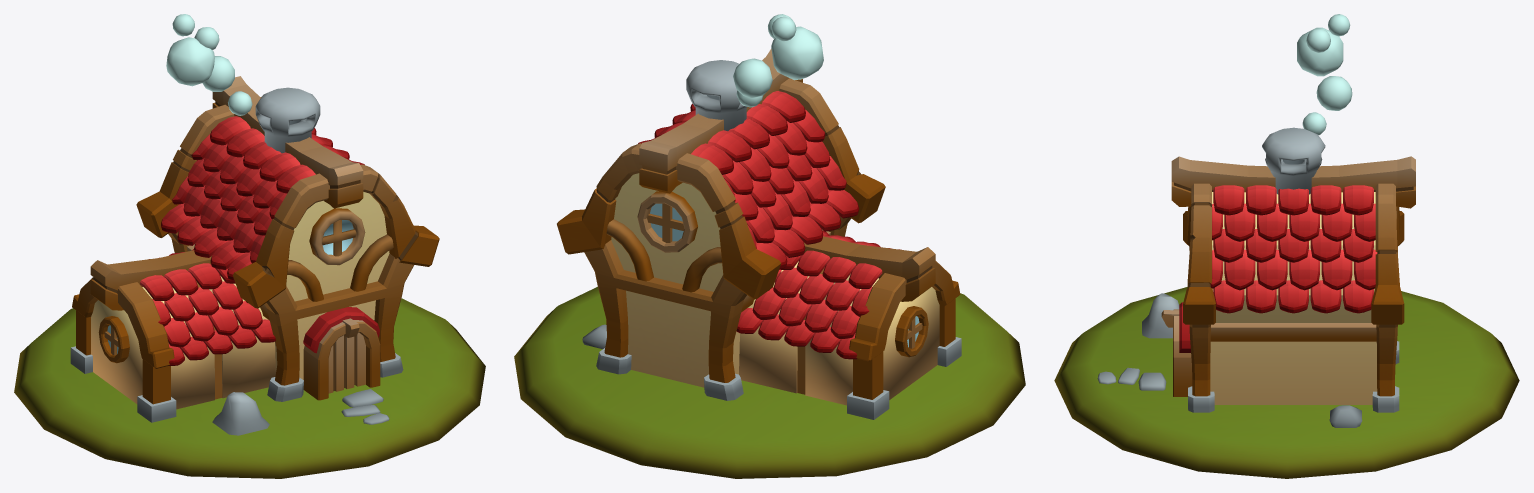
Rendered from 3december_2021_day_4_cottage.glb.
The picture shows the model from 3 angles, left to right: view 1: azimuth 30°, elevation 25°; view 2: azimuth 150°, elevation 25°; view 3: azimuth 270°, elevation 25°; orthographic projection. The views are drawn at different scales.
Visible parts, largest first — view 1: Cube.007; view 2: Cube.007; view 3: Cube.007.
Boxes of the visible parts, bbox=[...] form: Cube.007: bbox=[14, 14, 485, 478]; Cube.007: bbox=[514, 14, 1025, 478]; Cube.007: bbox=[1054, 14, 1519, 478].
Bounding box in the file's own units: 8.7 × 7.15 × 8.7.
Materials: 7 (5 with a texture image).
